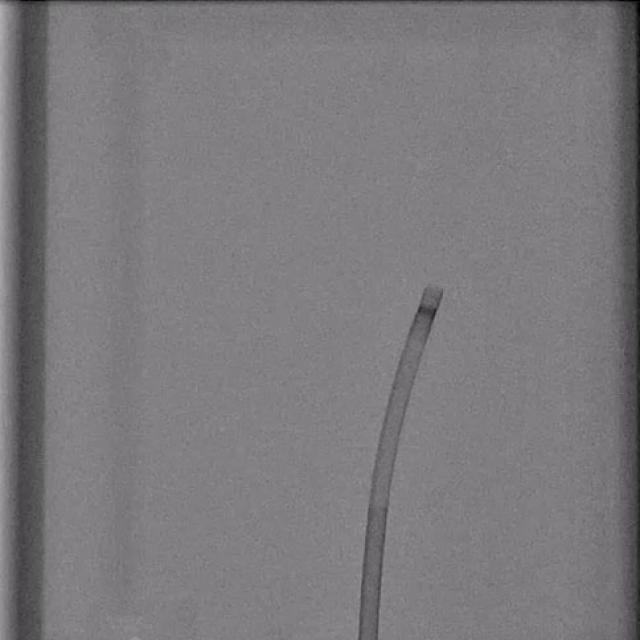bend: (368, 495, 388, 511)
entry: (358, 634, 376, 640)
marker: (416, 304, 438, 318)
tip: (425, 286, 444, 295)
